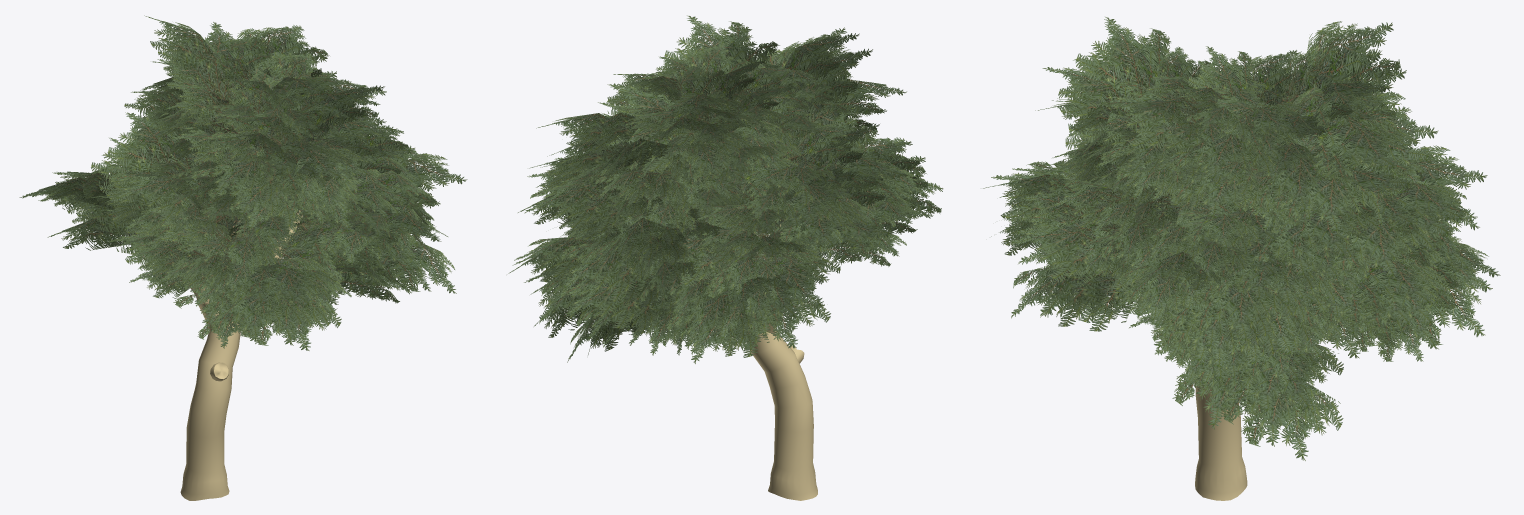
File: Arbre_1.FBX
3 views of the same model, side by side, from view 1: azimuth 30°, elevation 25°; view 2: azimuth 150°, elevation 25°; view 3: azimuth 270°, elevation 25° (orthographic). The views are drawn at different scales.
Visible parts, largest first — view 1: yggrassil_02, Stren; view 2: yggrassil_02, Stren; view 3: yggrassil_02, Stren.
Boxes of the visible parts, x1,y1,x2,y2 form: yggrassil_02: (19, 15, 467, 350); Stren: (180, 210, 302, 500); yggrassil_02: (508, 15, 943, 363); Stren: (747, 224, 817, 500); yggrassil_02: (983, 17, 1500, 460); Stren: (1195, 379, 1247, 500).
Size of the model in its own units: 1002 by 1152 by 1132.
